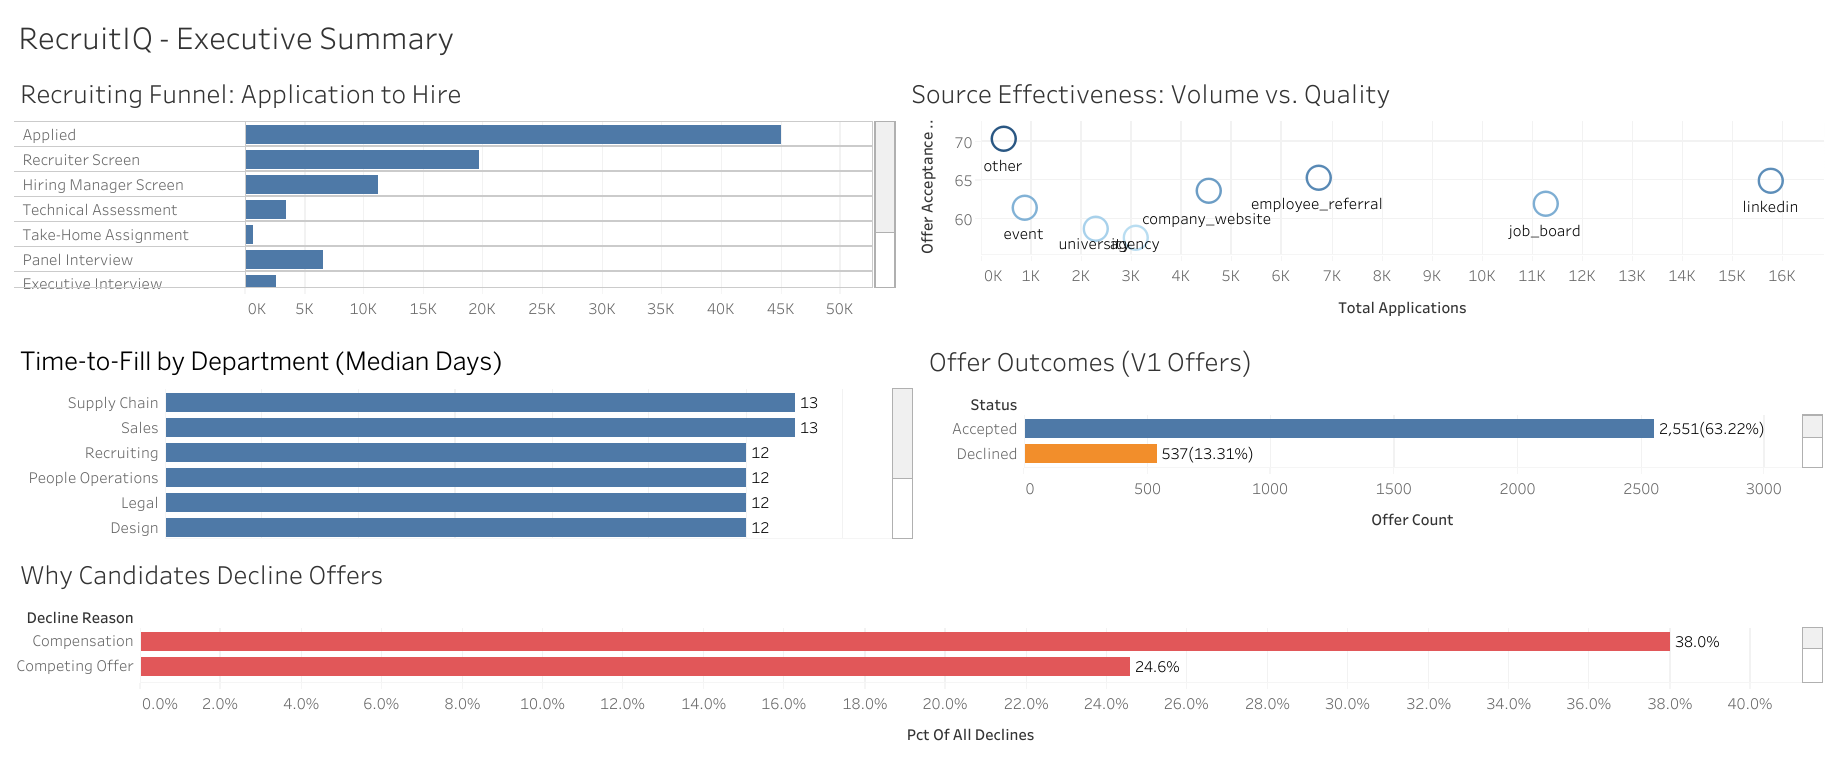

This screenshot's page, from the dashboard's own definition file:
{"tool":"tableau","page":{"name":"Tab 1 - Executive Summary","canvas":[1000,1000],"units":"permille","ordinal":0},"visuals":[{"type":"title","box":[4.9,9.4,990.2,58.8]},{"type":"worksheet","title":"Funnel","mark":"Automatic","rows":["#","stage_name"],"cols":["applications_at_stage"],"box":[4.9,68.2,485.2,356.3]},{"type":"worksheet","title":"Source Effectiveness","mark":"Automatic","rows":["offer_acceptance_rate_pct"],"cols":["total_applications"],"box":[490.2,68.2,504.9,356.3]},{"type":"worksheet","title":"TTF by Department","mark":"Automatic","rows":["department"],"cols":["median_days"],"box":[4.9,424.4,495.1,280.6]},{"type":"worksheet","title":"Offer Outcomes","mark":"Automatic","rows":["Pivot Field Names"],"cols":["Pivot Field Values"],"box":[500,424.4,495.1,280.6]},{"type":"worksheet","title":"Decline Reasons","mark":"Automatic","rows":["decline_reason"],"cols":["pct_of_all_declines"],"box":[4.9,705,990.2,285.6]}]}

Visuals, with their boxes on the dashboard's canvas, which has no fixed pixel size, in thousandths of its width and height (x1, y1, x2, y2). These are canvas units, not pixel positions in the 1838x768 screenshot, which may show the page scaled, cropped or inside an application window:
title: {"left": 5, "top": 9, "right": 995, "bottom": 68}
"Funnel" worksheet: {"left": 5, "top": 68, "right": 490, "bottom": 424}
"Source Effectiveness" worksheet: {"left": 490, "top": 68, "right": 995, "bottom": 424}
"TTF by Department" worksheet: {"left": 5, "top": 424, "right": 500, "bottom": 705}
"Offer Outcomes" worksheet: {"left": 500, "top": 424, "right": 995, "bottom": 705}
"Decline Reasons" worksheet: {"left": 5, "top": 705, "right": 995, "bottom": 991}
